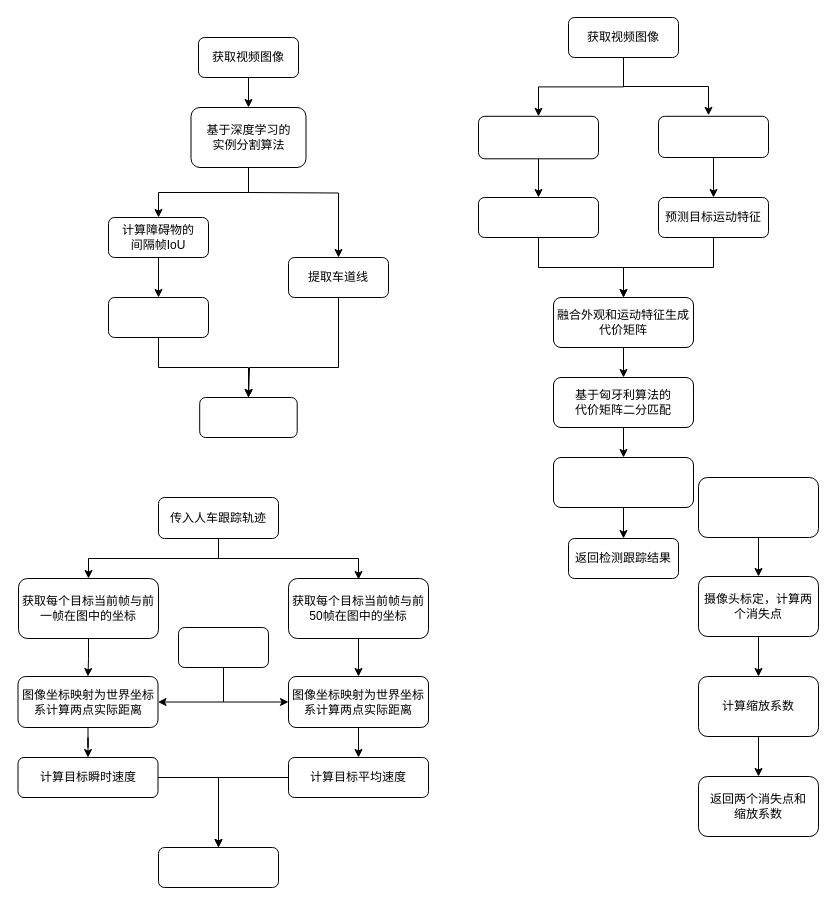
Image size: 836x905. Some labels were removed from this diagram. Each missing label, with the box of its shape:
两个消失点 缩放系数: (178, 626, 268, 668)
传入图像和车道线 检测框: (698, 476, 818, 538)
利用匹配结果更新 卡尔曼滤波器: (552, 456, 694, 508)
基于卡尔曼滤波器的跟踪算法: (658, 115, 768, 158)
基于深度学习的 人车检测算法: (478, 115, 598, 159)
提取目标外观特征: (478, 196, 598, 238)
提取障碍物: (108, 296, 208, 338)
返回结果: (199, 396, 297, 438)
返回速度估计值: (158, 846, 278, 888)
